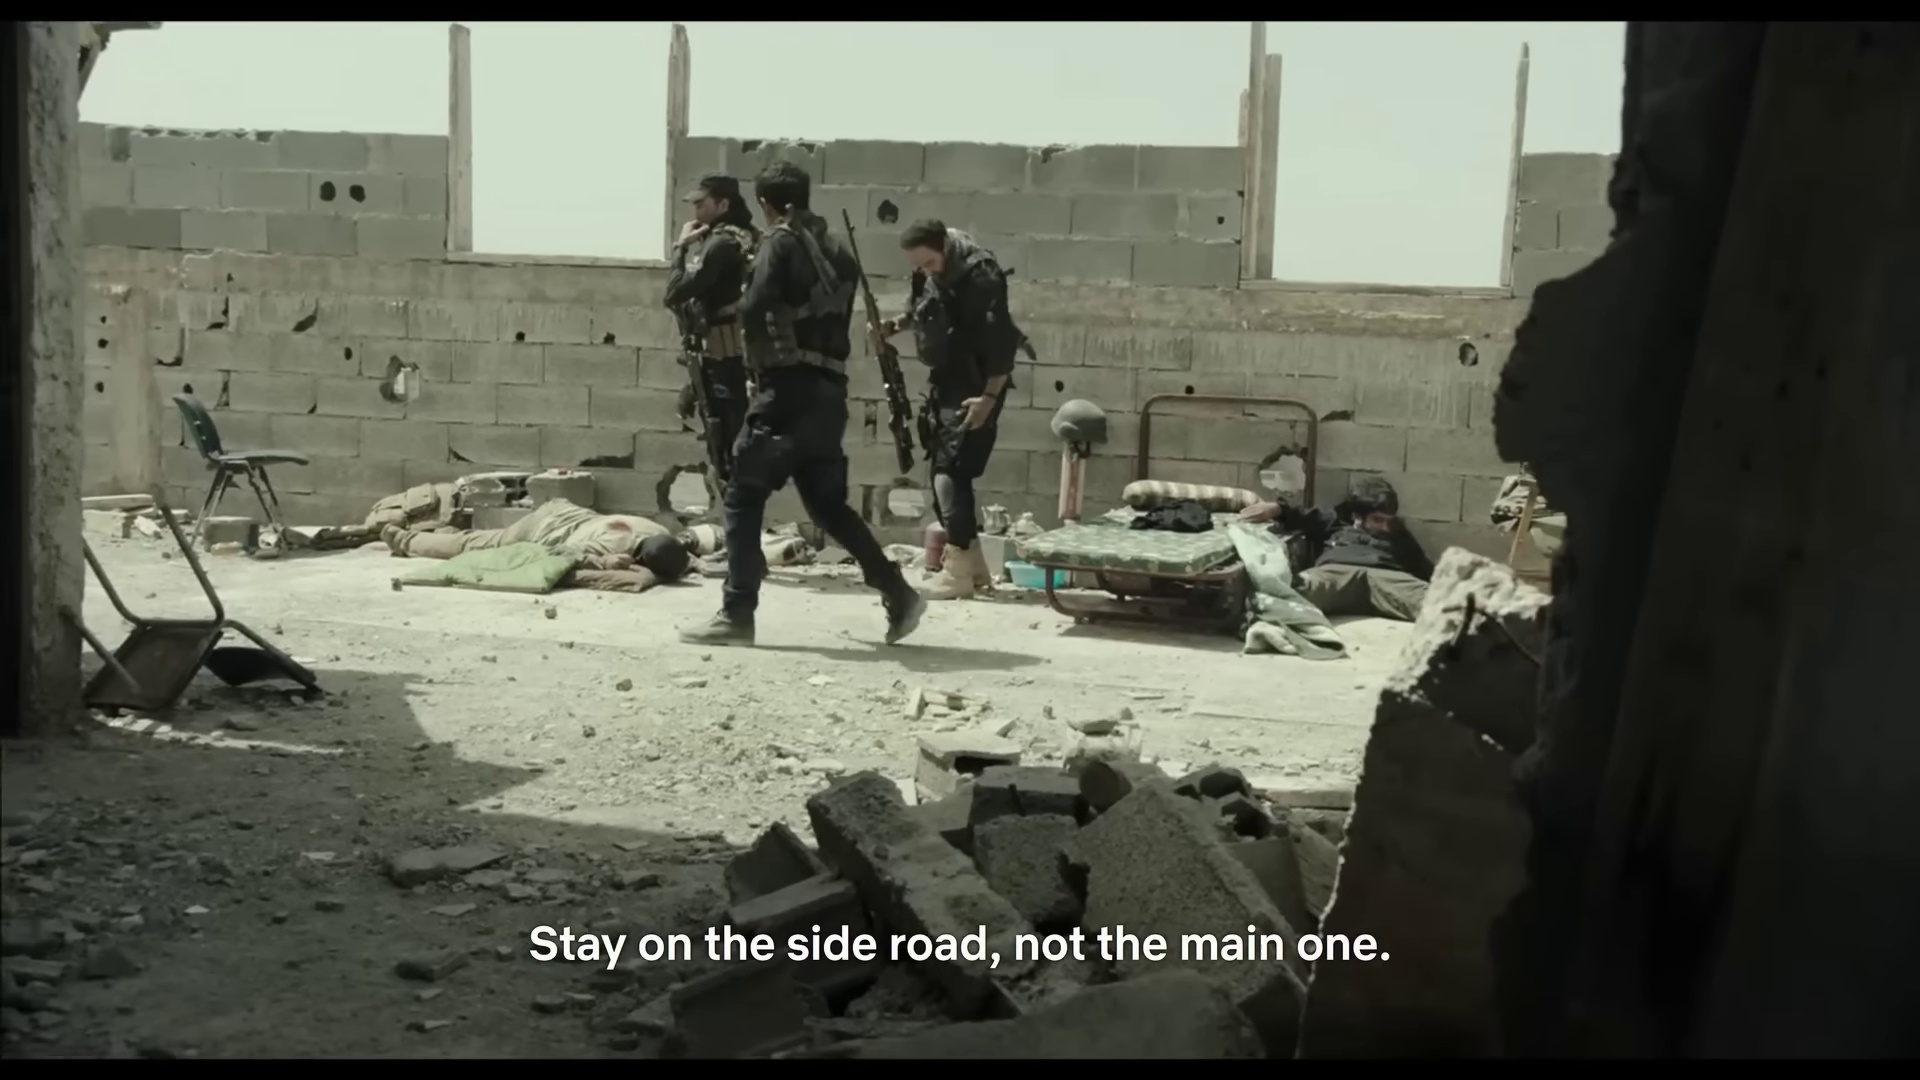gun: (836, 204, 922, 477), (669, 310, 731, 484)
p_w_gun: (833, 203, 1022, 604), (657, 170, 765, 504)
p_wo_gun_not_carrying_normal_pose: (680, 161, 916, 653), (1242, 475, 1447, 624), (376, 496, 694, 582)
